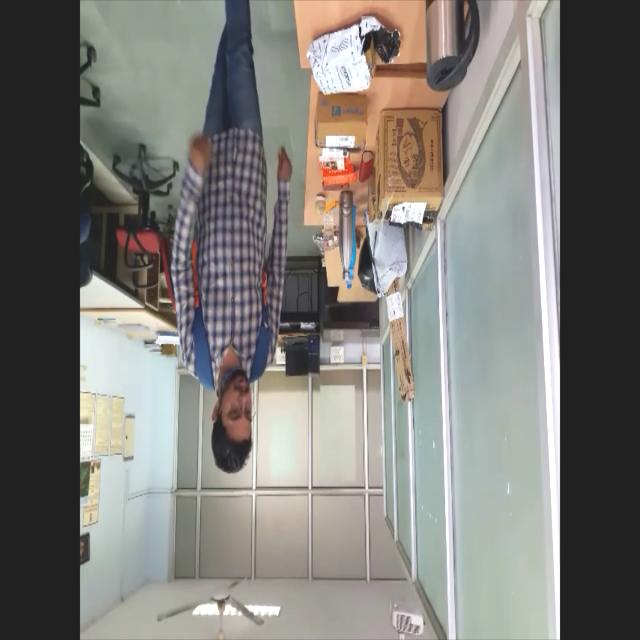normal: (164, 19, 300, 484)
